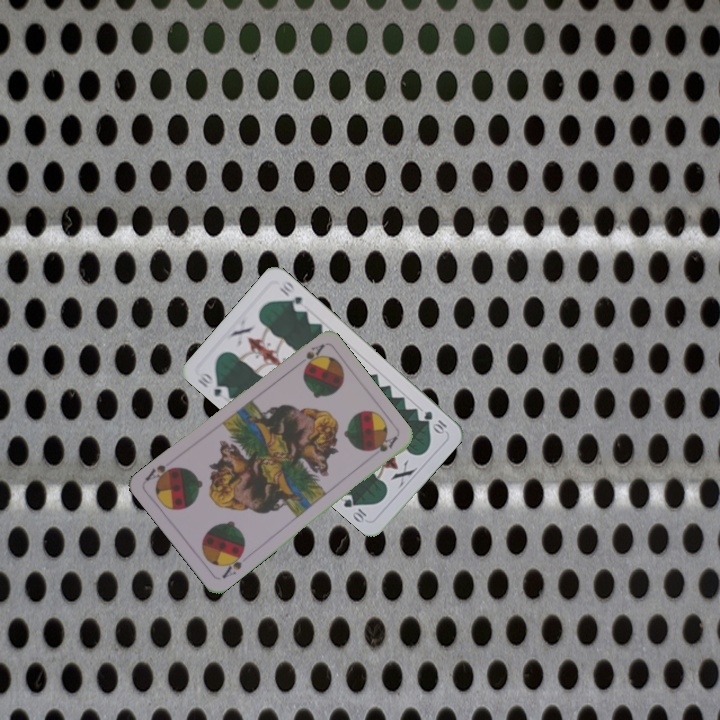G10: (193, 369, 232, 399), (420, 407, 449, 436)
SA: (218, 547, 247, 581), (300, 340, 326, 370)
